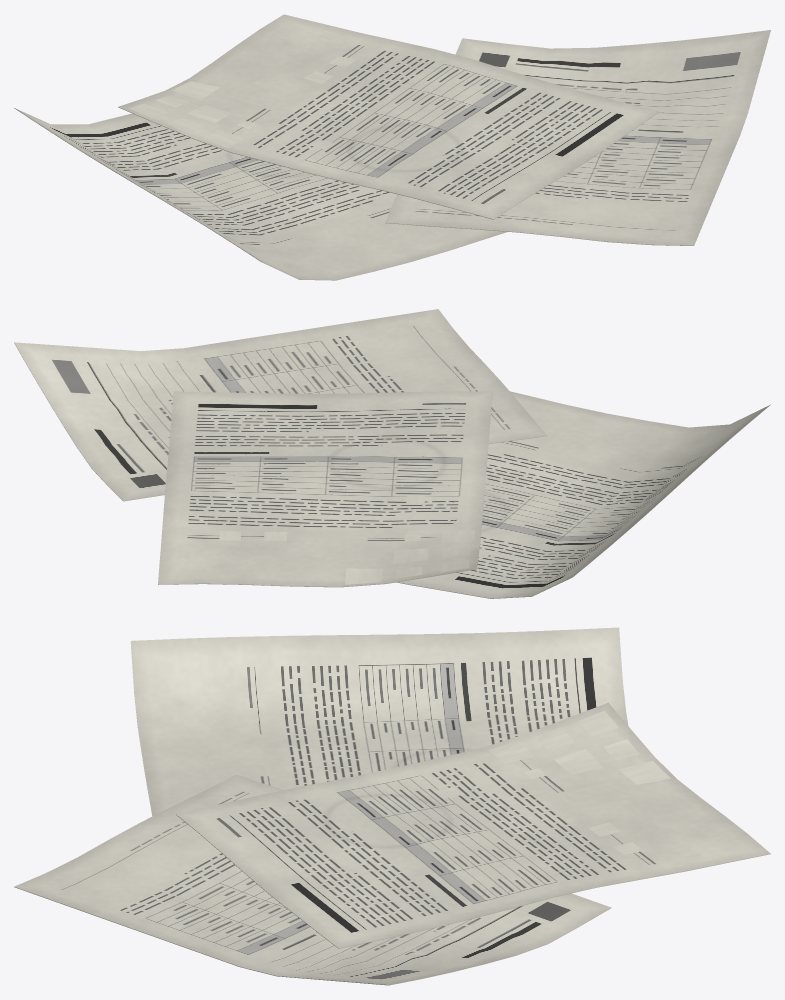
Rendered from SM_PaperDebris_C.fbx.
3 views of the same model, one above another, from view 1: azimuth 30°, elevation 25°; view 2: azimuth 150°, elevation 25°; view 3: azimuth 270°, elevation 25° (orthographic). The views are drawn at different scales.
Parts seen in each view (by area): view 1: SM_PaperDebris_C; view 2: SM_PaperDebris_C; view 3: SM_PaperDebris_C.
Boxes of the visible parts, <box> form: SM_PaperDebris_C: <box>14,14,770,280</box>; SM_PaperDebris_C: <box>14,309,770,598</box>; SM_PaperDebris_C: <box>14,627,770,985</box>.
Size of the model in its own units: 50.5 by 3.2 by 45.91.
